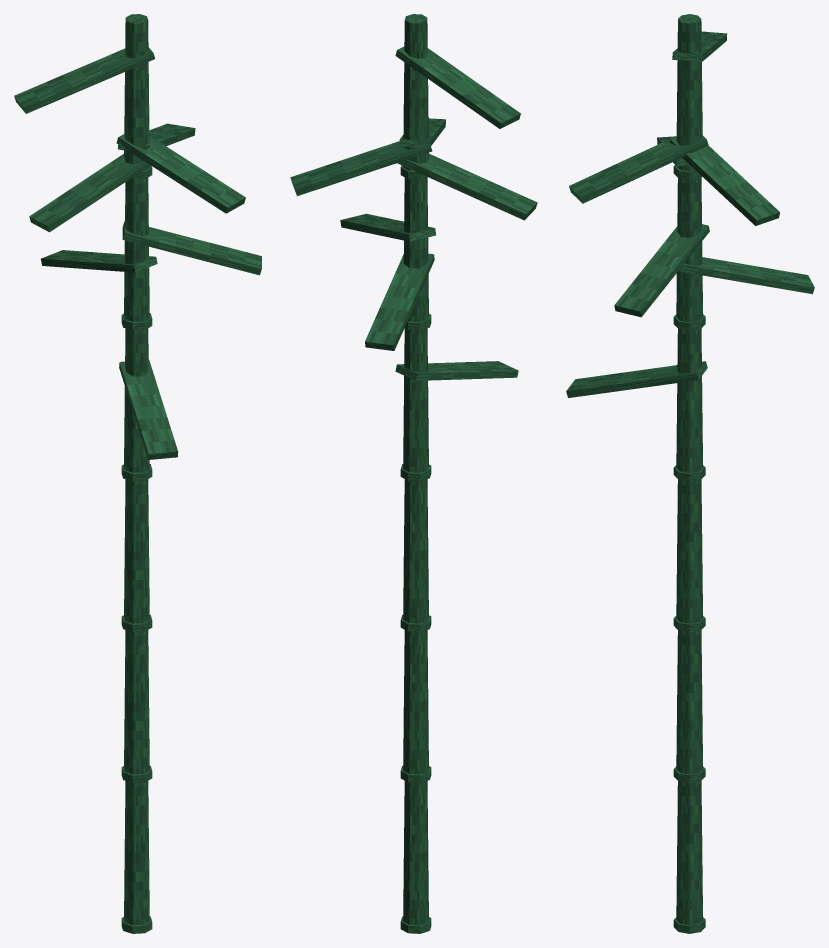
The model's file is bamboo_50.glb.
3 views of the same model, side by side, from view 1: azimuth 30°, elevation 25°; view 2: azimuth 150°, elevation 25°; view 3: azimuth 270°, elevation 25° (orthographic).
Parts seen in each view (by area): view 1: Stem.001, Stem.002, Stem, Stem.004, Stem.005, Leaf, Leaf.003, Leaf.006, Leaf.002, Leaf.005, Stem.003, Leaf.004 (+1 smaller); view 2: Stem.001, Stem, Stem.002, Stem.003, Leaf.002, Stem.005, Leaf.004, Leaf.003, Leaf.001, Stem.004, Leaf.006, Leaf.005 (+1 smaller); view 3: Stem.002, Stem, Stem.001, Stem.003, Stem.005, Leaf.005, Stem.004, Leaf.001, Leaf, Leaf.006, Leaf.004, Leaf.002.
Part boxes in pixels (x1=…): Stem.001: x1=124, y1=630, x2=149, y2=774; Stem.002: x1=124, y1=479, x2=149, y2=623; Stem: x1=124, y1=781, x2=149, y2=925; Stem.004: x1=124, y1=177, x2=149, y2=321; Stem.005: x1=124, y1=14, x2=149, y2=170; Leaf: x1=116, y1=134, x2=245, y2=213; Leaf.003: x1=29, y1=154, x2=150, y2=232; Leaf.006: x1=119, y1=359, x2=178, y2=459; Leaf.002: x1=14, y1=47, x2=155, y2=113; Leaf.005: x1=122, y1=221, x2=261, y2=275; Stem.003: x1=124, y1=328, x2=149, y2=472; Leaf.004: x1=41, y1=250, x2=157, y2=272; Stem.001: x1=403, y1=630, x2=428, y2=774; Stem: x1=403, y1=781, x2=428, y2=925; Stem.002: x1=403, y1=479, x2=428, y2=623; Stem.003: x1=403, y1=328, x2=428, y2=472; Leaf.002: x1=395, y1=46, x2=520, y2=128; Stem.005: x1=403, y1=14, x2=428, y2=170; Leaf.004: x1=365, y1=253, x2=434, y2=350; Leaf.003: x1=397, y1=153, x2=537, y2=220; Leaf.001: x1=290, y1=141, x2=432, y2=196; Stem.004: x1=403, y1=177, x2=428, y2=321; Leaf.006: x1=395, y1=361, x2=518, y2=380; Leaf.005: x1=340, y1=213, x2=435, y2=241; Stem.002: x1=676, y1=479, x2=702, y2=623; Stem: x1=676, y1=781, x2=702, y2=925; Stem.001: x1=676, y1=630, x2=702, y2=774; Stem.003: x1=676, y1=329, x2=702, y2=472; Stem.005: x1=676, y1=14, x2=702, y2=171; Leaf.005: x1=614, y1=224, x2=709, y2=317; Stem.004: x1=676, y1=178, x2=702, y2=322; Leaf.001: x1=669, y1=137, x2=779, y2=225; Leaf: x1=569, y1=135, x2=708, y2=203; Leaf.006: x1=566, y1=361, x2=707, y2=397; Leaf.004: x1=679, y1=257, x2=814, y2=294; Leaf.002: x1=672, y1=31, x2=727, y2=61.
Bounding box in the file's own units: 1.44 × 5.97 × 1.48.
Materials: 1 (1 with a texture image).
